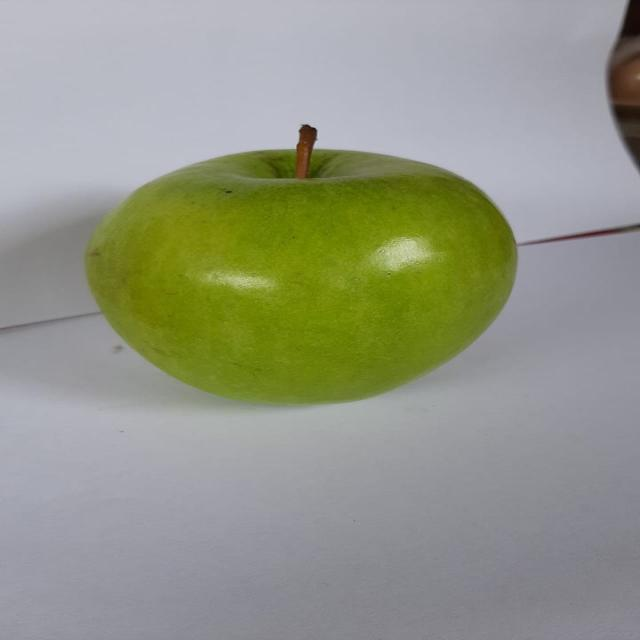50-_ripeness: (71, 126, 527, 416)
